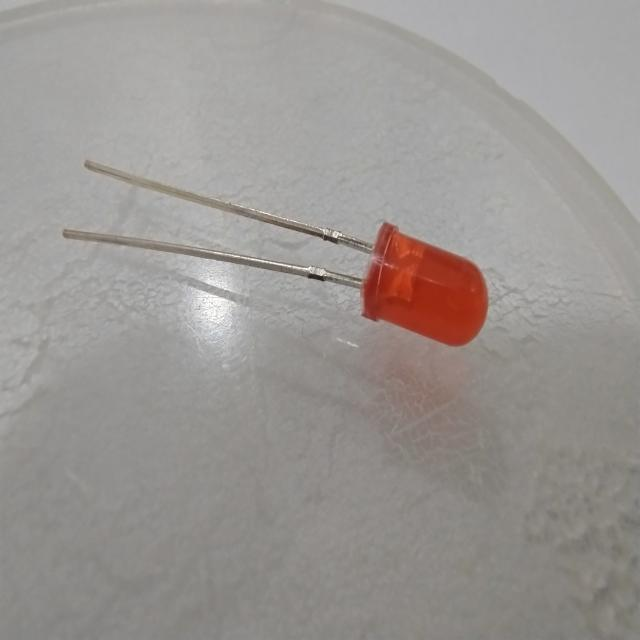red_led: (355, 205, 495, 371)
